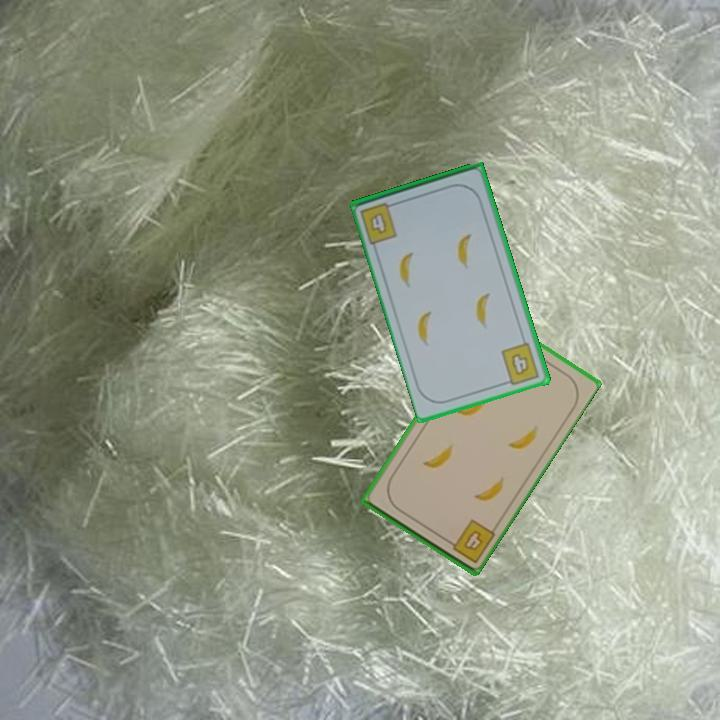4b: (442, 515, 497, 566), (498, 339, 542, 388), (357, 199, 401, 247)
